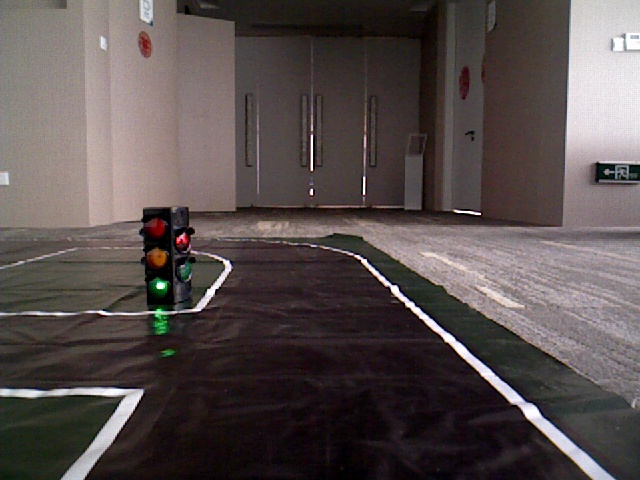green: (146, 211, 176, 303)
